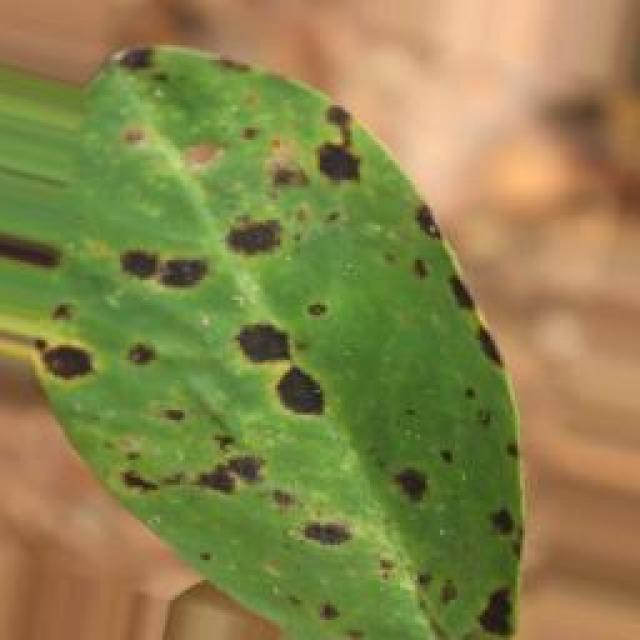Yellowish: (15, 6, 558, 640)
